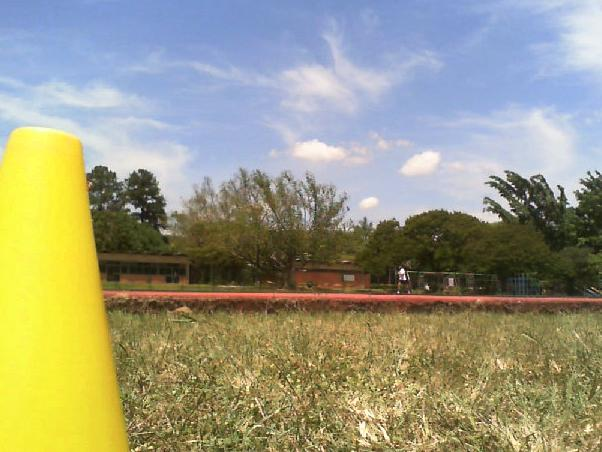0 cone: (0, 127, 130, 452)
